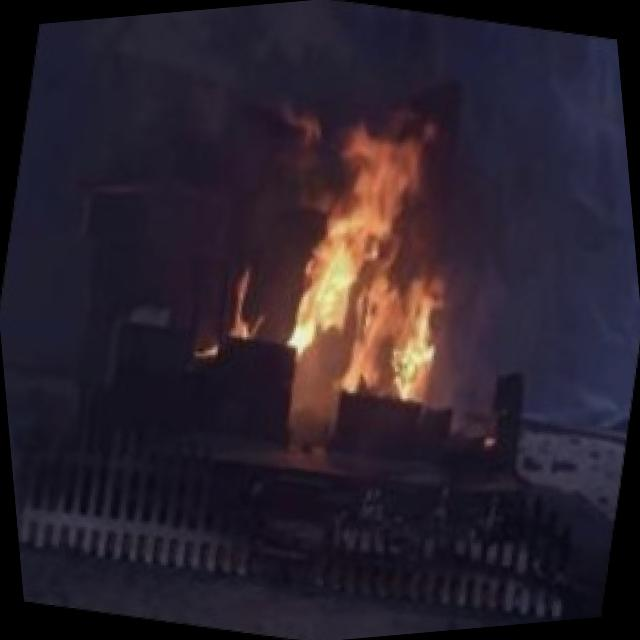fire: (212, 93, 498, 432)
